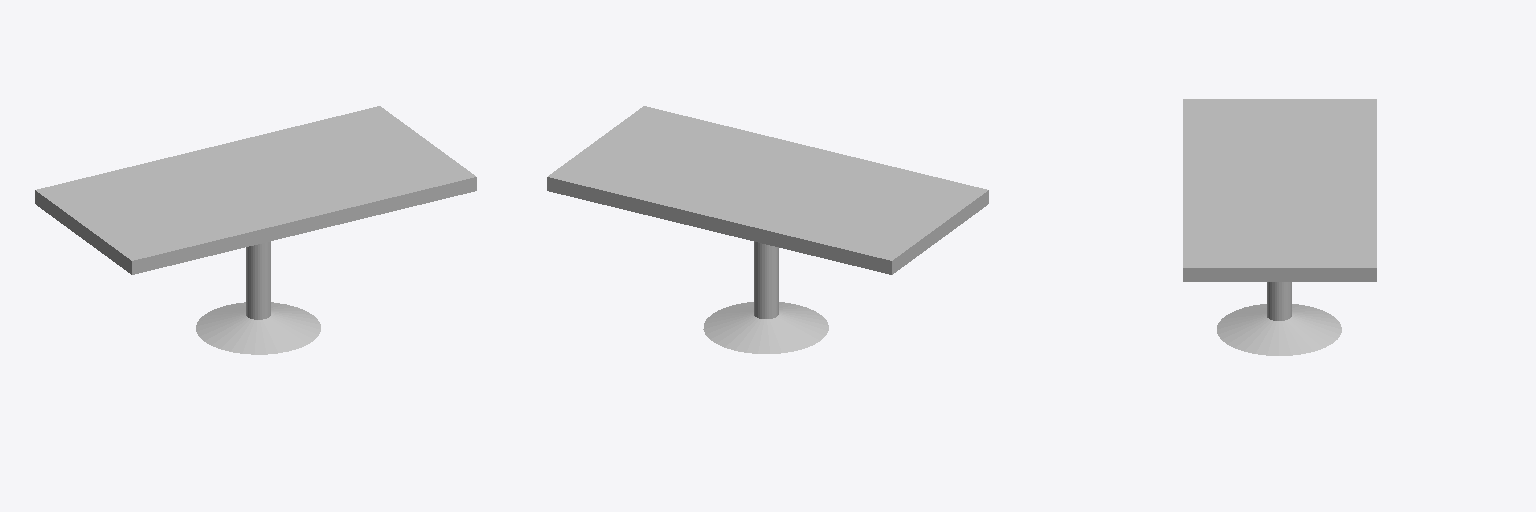
The model's file is squareTable.obj.
The picture shows the model from 3 angles: view 1: azimuth 30°, elevation 25°; view 2: azimuth 150°, elevation 25°; view 3: azimuth 270°, elevation 25°; orthographic projection.
Visible parts, largest first — view 1: Cube_Cube.001, Cylinder_Cylinder.001; view 2: Cube_Cube.001, Cylinder_Cylinder.001; view 3: Cube_Cube.001, Cylinder_Cylinder.001.
Part boxes in pixels (left/top/right/bottom): Cube_Cube.001: left=35, top=106, right=476, bottom=274; Cylinder_Cylinder.001: left=196, top=241, right=320, bottom=354; Cube_Cube.001: left=547, top=106, right=988, bottom=274; Cylinder_Cylinder.001: left=703, top=242, right=828, bottom=353; Cube_Cube.001: left=1183, top=99, right=1376, bottom=281; Cylinder_Cylinder.001: left=1217, top=282, right=1341, bottom=355.
Bounding box in the file's own units: 7.92 × 3.18 × 3.86.